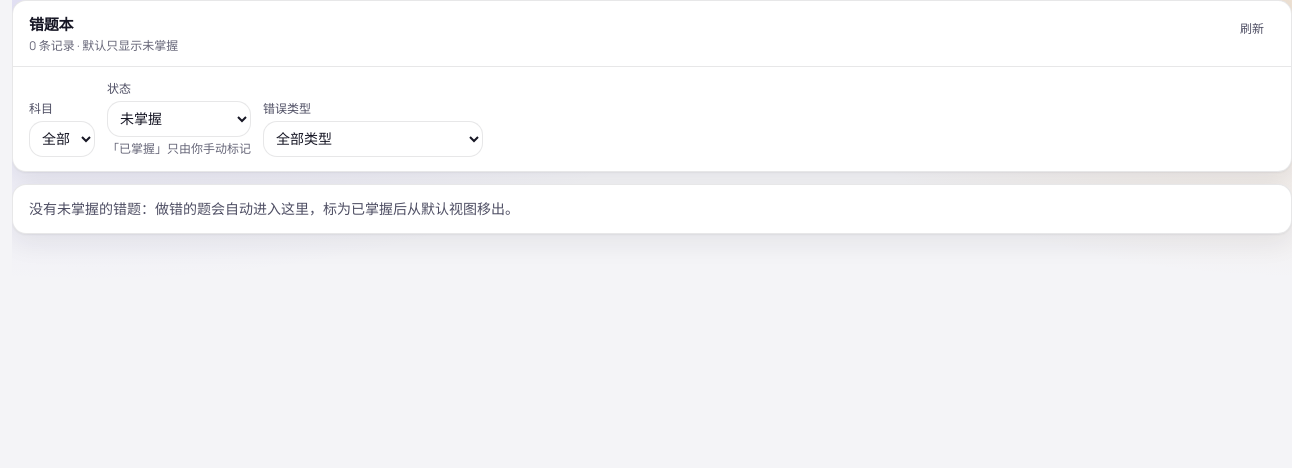
Scenario: AC-V2 默认视图与筛选 › 已掌握的行不再提供「已掌握」按钮
The image size is (1292, 468).
Select "全部" in the dropdown labelled "状态": (179, 119) x1=107 y1=101 x2=251 y2=137
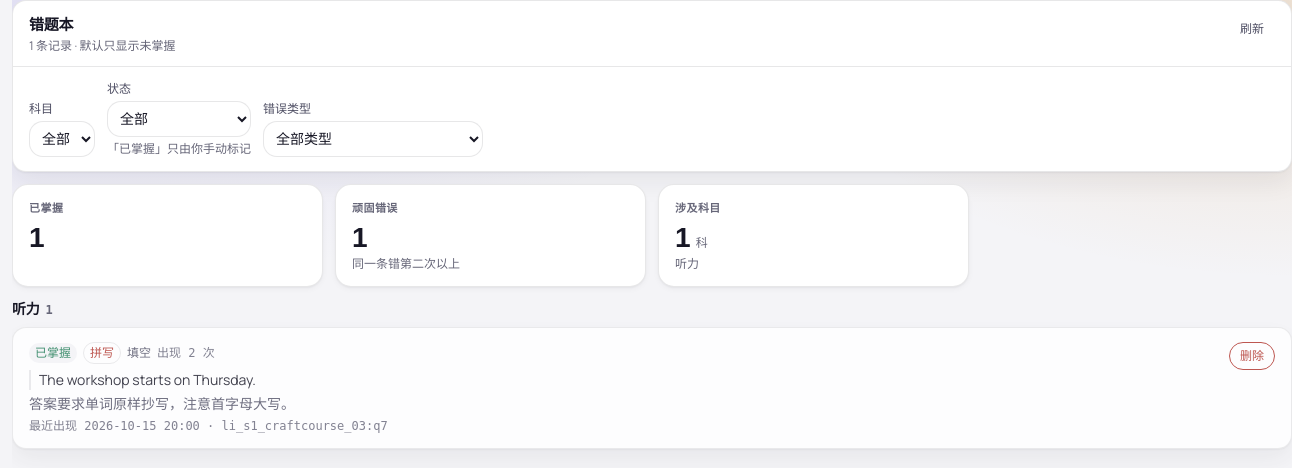
Expected: the text "The workshop starts on Thursday." is shown, x1=29 y1=370 x2=1217 y2=390
